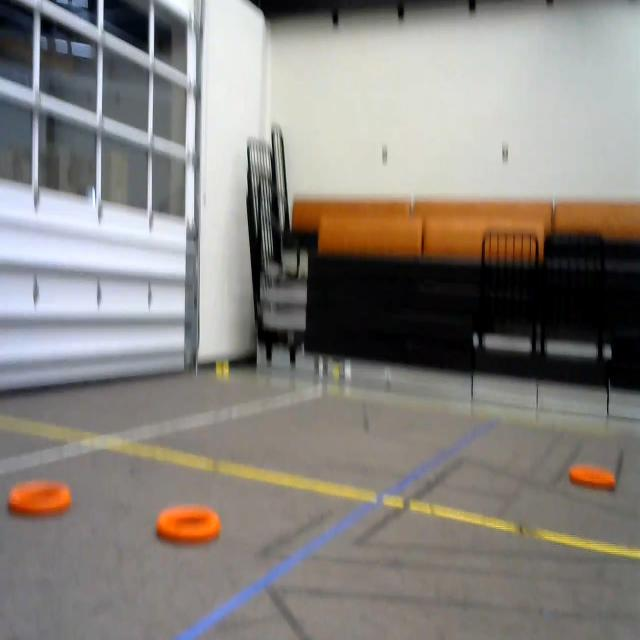note: (153, 491, 224, 549), (8, 471, 77, 530), (562, 456, 626, 508)
